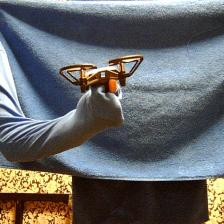drone: (58, 54, 146, 94)
